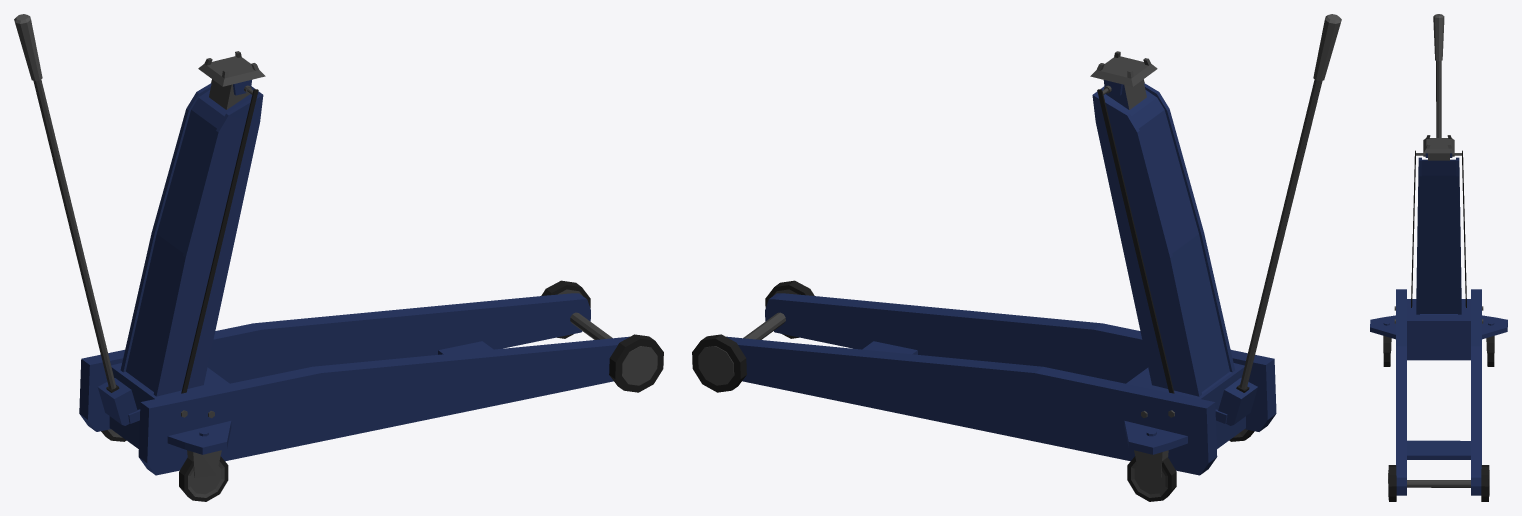
File: LP_Equipment.fbx
3 views of the same model, side by side, from view 1: azimuth 30°, elevation 25°; view 2: azimuth 150°, elevation 25°; view 3: azimuth 270°, elevation 25° (orthographic). The views are drawn at different scales.
Visible parts, largest first — view 1: LP_Equipment; view 2: LP_Equipment; view 3: LP_Equipment.
Part boxes in pixels (<box>): LP_Equipment: <box>14,14,663,501</box>; LP_Equipment: <box>692,14,1341,501</box>; LP_Equipment: <box>1370,14,1507,501</box>.
Size of the model in its own units: 1.88 by 1.44 by 0.583.
